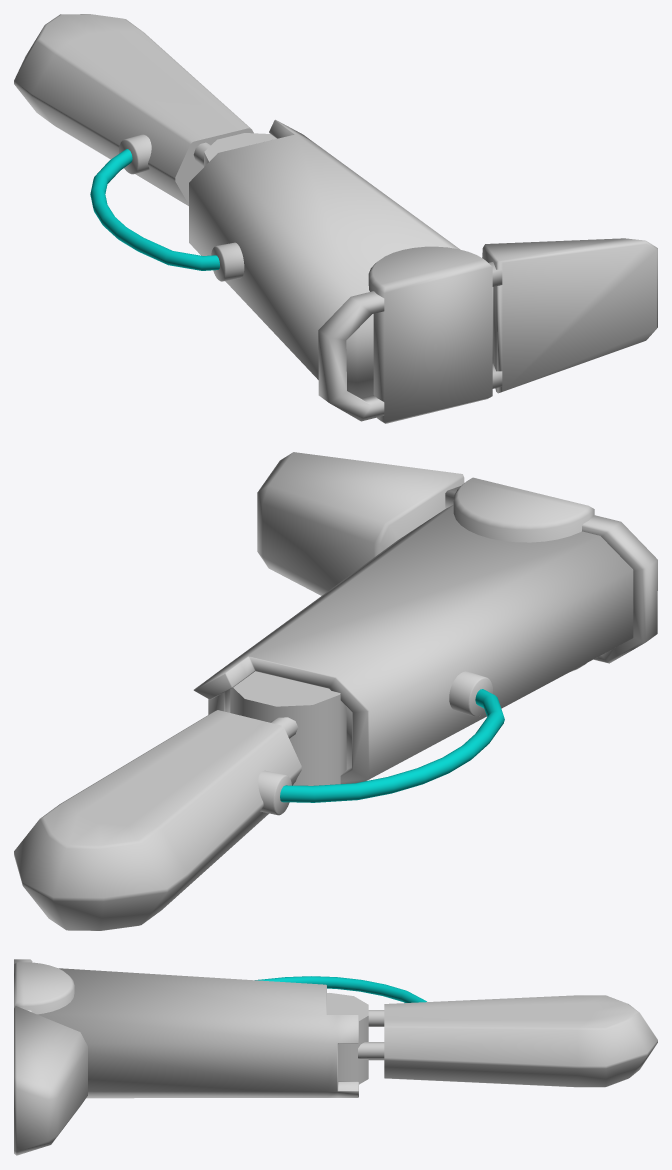
The model's file is Ranged_Leg.fbx.
3 renders of one model, top to bottom at view 1: azimuth 30°, elevation 25°; view 2: azimuth 150°, elevation 25°; view 3: azimuth 270°, elevation 25°, orthographic. The views are drawn at different scales.
Visible parts, largest first — view 1: mesh_ranged_robot_Leg; view 2: mesh_ranged_robot_Leg; view 3: mesh_ranged_robot_Leg.
Boxes of the visible parts, <box> form: mesh_ranged_robot_Leg: <box>14,14,657,423</box>; mesh_ranged_robot_Leg: <box>14,452,657,930</box>; mesh_ranged_robot_Leg: <box>14,959,657,1155</box>.
Size of the model in its own units: 61.75 by 22.62 by 122.
